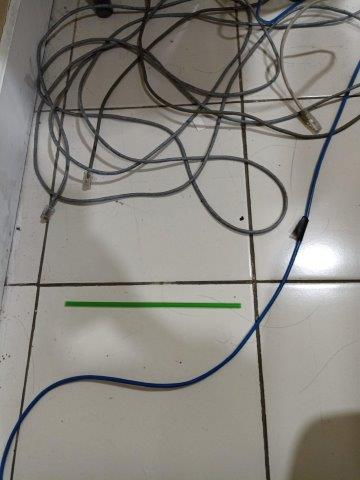sedotan: (66, 301, 242, 308)
